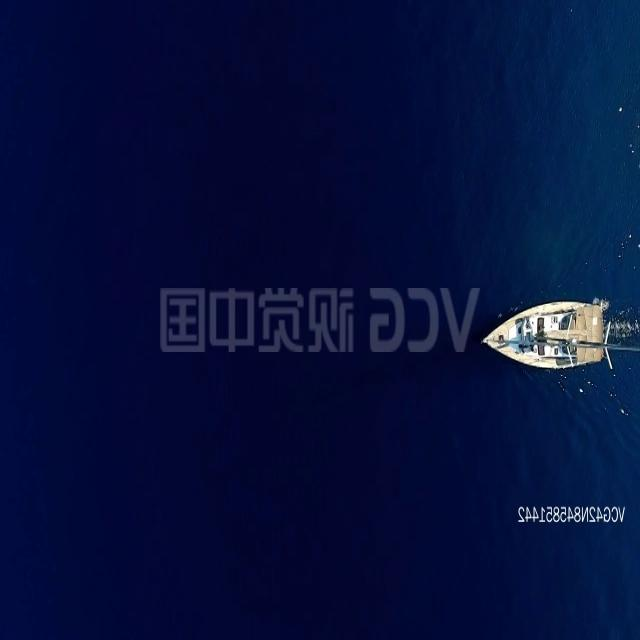sailboat: (482, 294, 627, 372)
